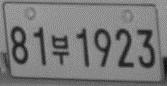1: (32, 25, 47, 66), (75, 27, 90, 68)
2: (115, 27, 134, 67)
3: (136, 29, 155, 68)
8: (10, 26, 28, 64)
9: (93, 28, 111, 67)
부: (51, 34, 70, 65)
